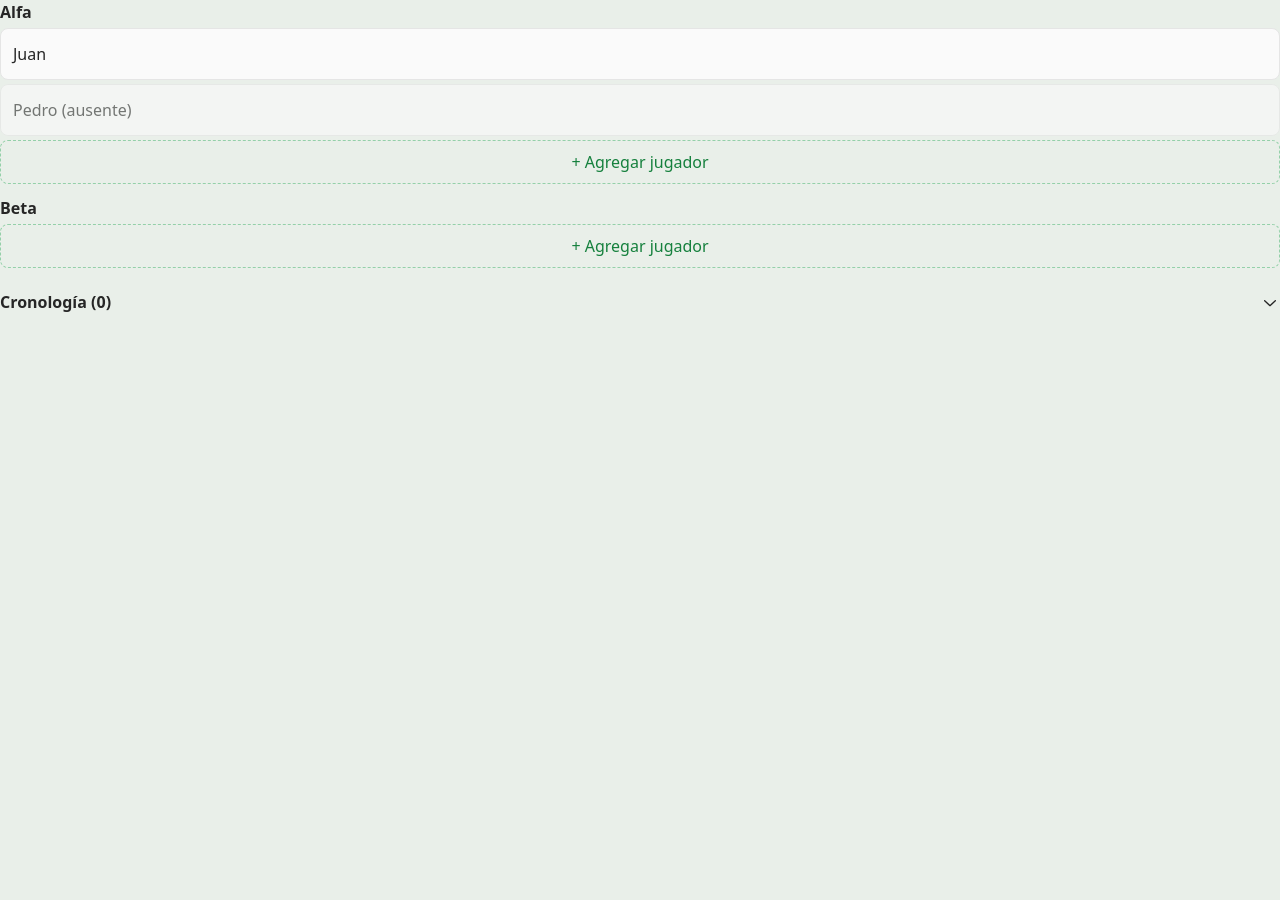
CargaVivo lista unificada › filtro por nombre reduce la lista y sin seleccion no confirma
Click the button "+ Agregar jugador" below "Alfa": [640, 162] box [0, 140, 1279, 184]
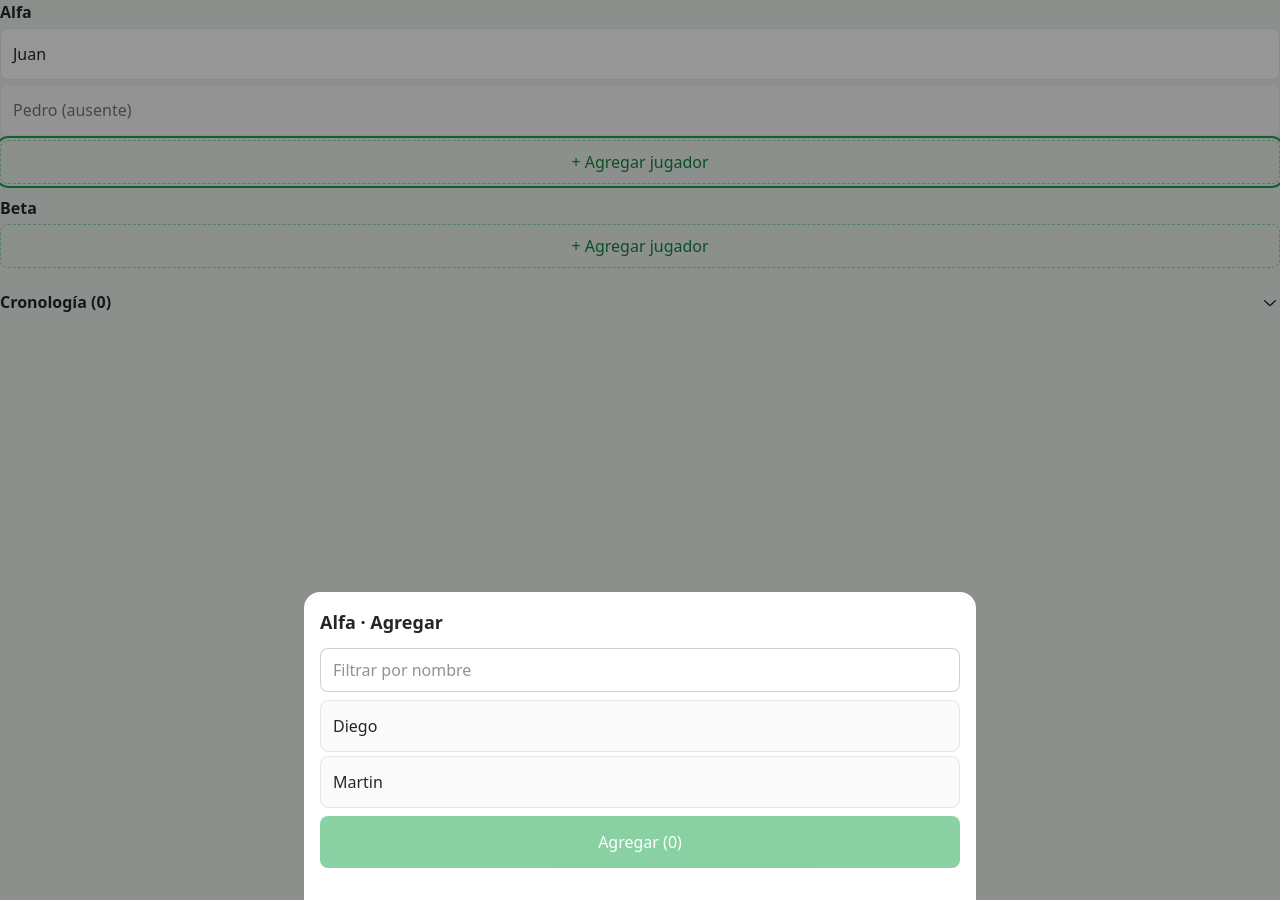
Now the heading "Alfa · Agregar" is shown, box [320, 610, 443, 634]
Now the button "Agregar (0)" is disabled, box [320, 816, 960, 868]
In the field with placeholder "Filtrar por nombre": [640, 670] box [320, 648, 960, 692], type "mar"
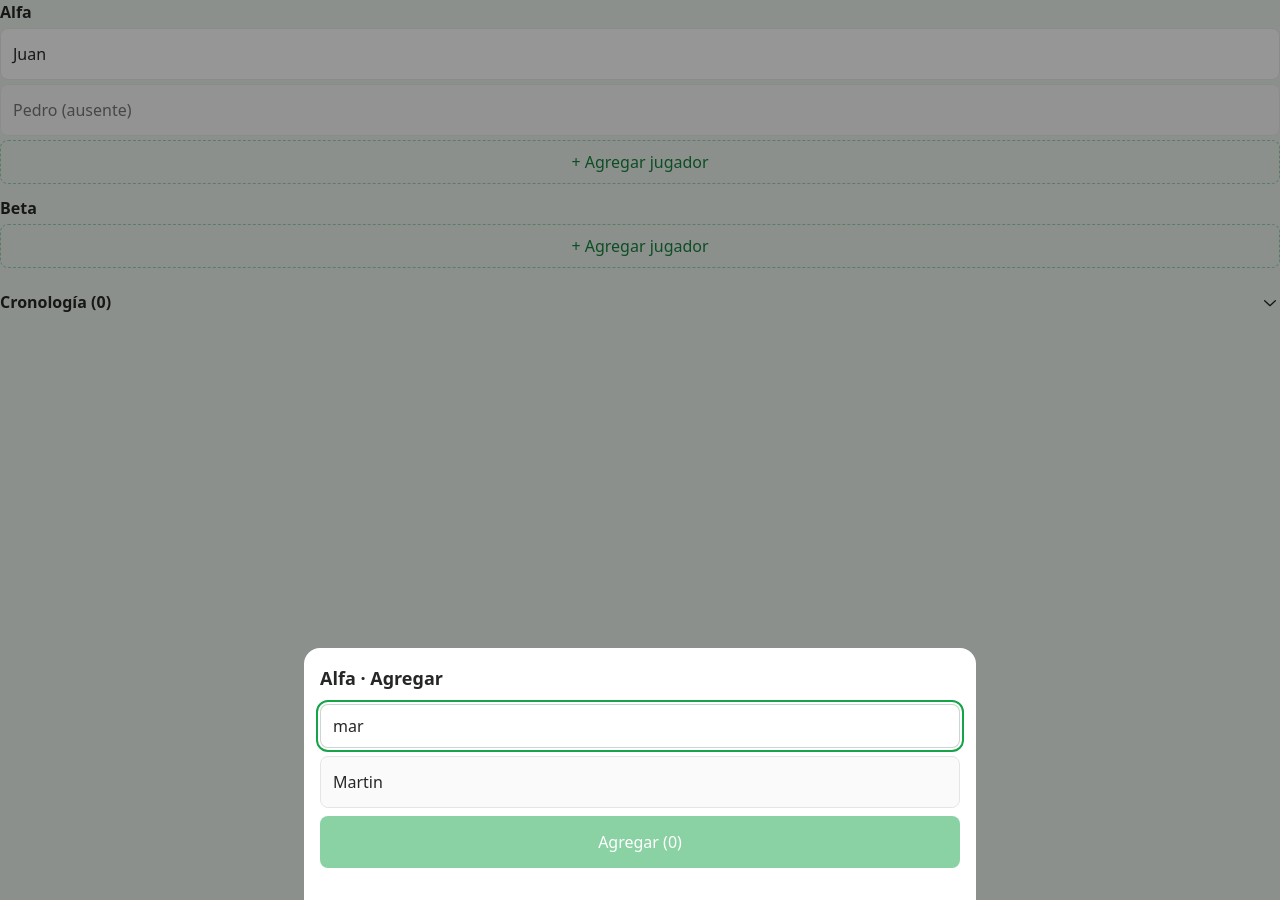
Now the text "Martin" is shown, box [333, 770, 383, 794]
Now the button "Diego" is gone
